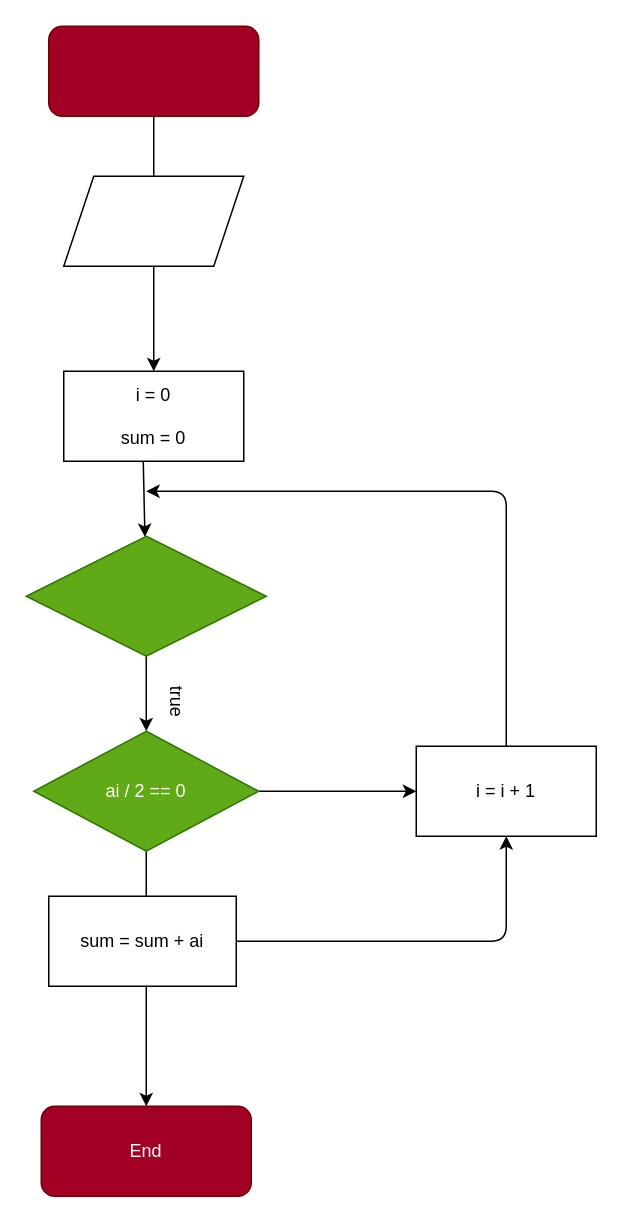
Image size: 623x1223. Some labels were removed from this diagram. The centre of each missing label's shape, as x and y in pixels:
i <= N: the point at 145,595
input N a1,a2,...,aN: the point at 153,220
Start: the point at 153,70
